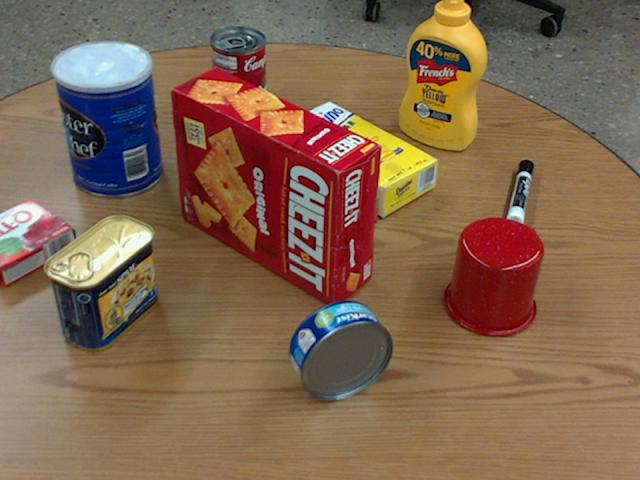cracker_box: (171, 68, 380, 306)
gelatin_box: (0, 198, 73, 284)
large_marker: (507, 160, 535, 228)
master_chef_can: (52, 41, 161, 197)
mug: (443, 216, 543, 336)
mustard_bottle: (400, 0, 487, 148)
potted_meat_can: (43, 213, 155, 349)
sugar_box: (277, 101, 438, 215)
tomato_soup_can: (210, 26, 266, 123)
tuna_fish_can: (290, 300, 393, 399)
